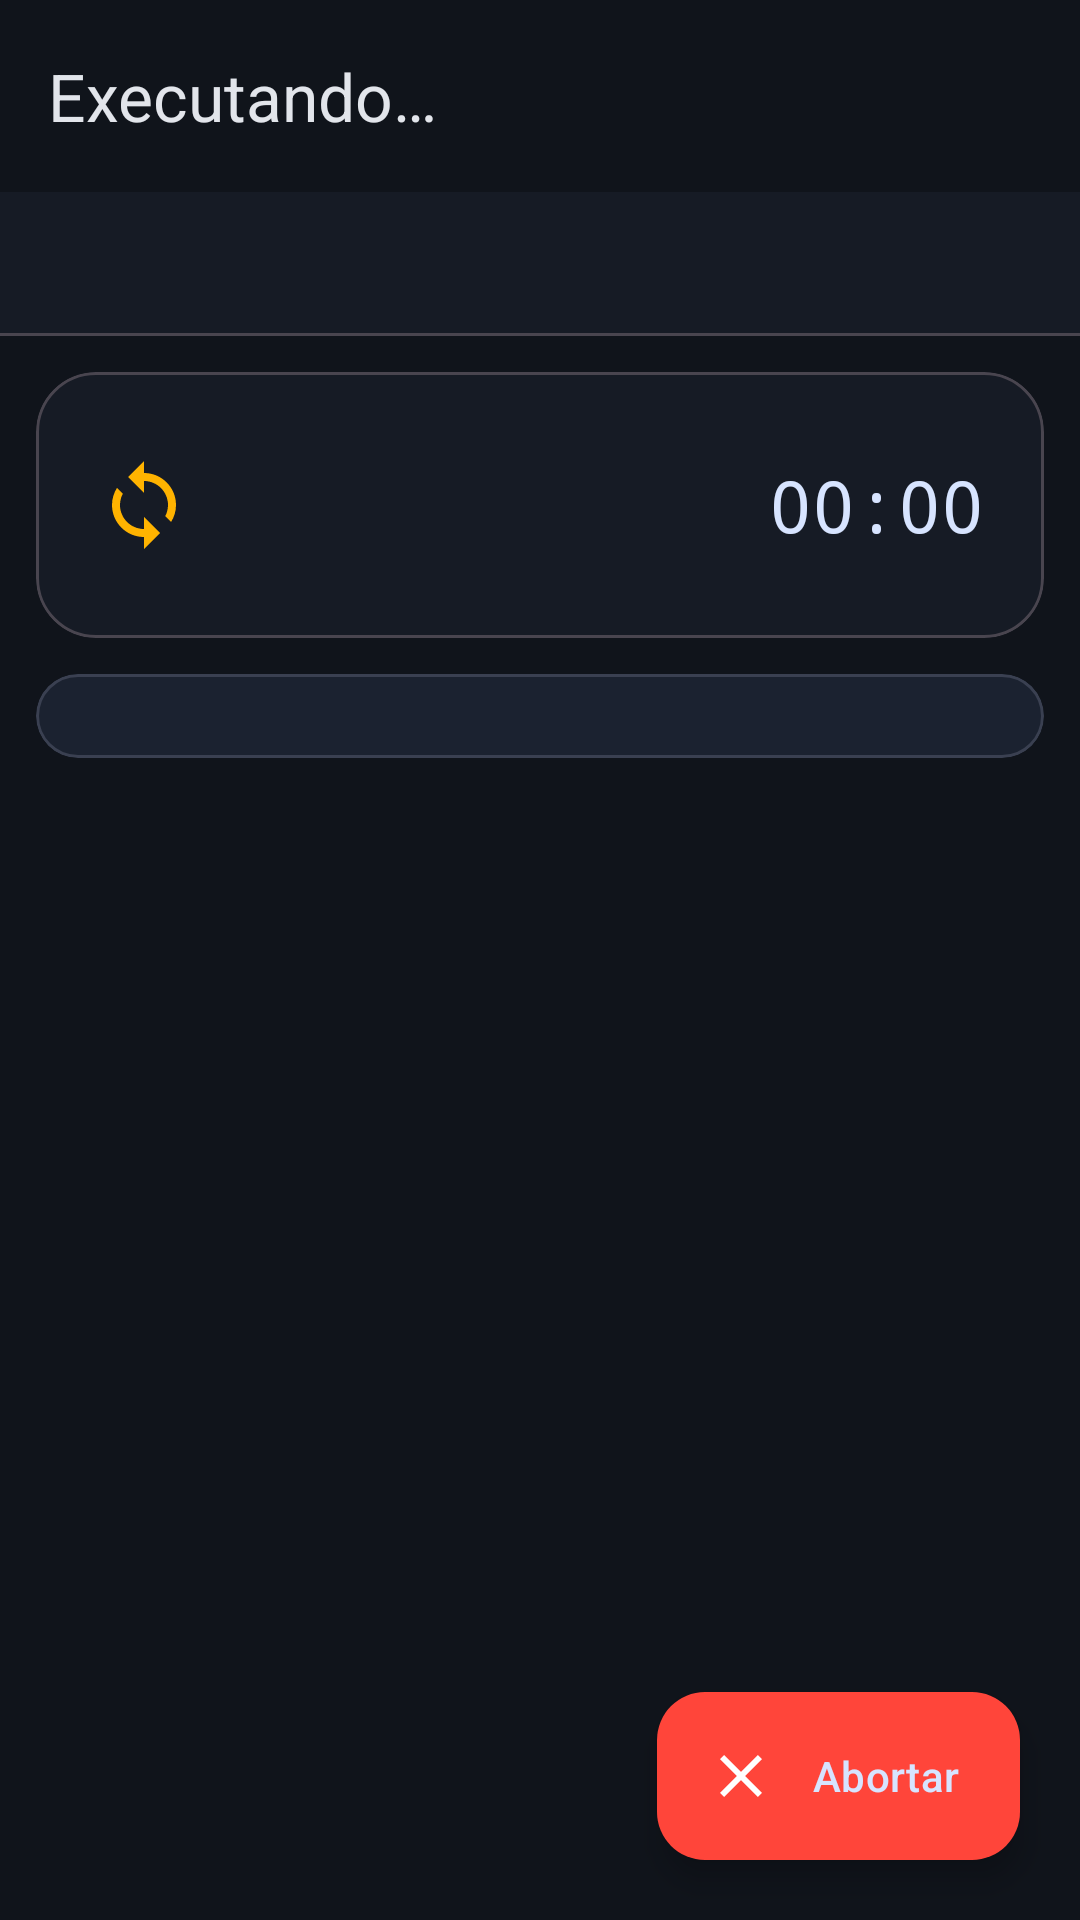

Locate icon controls on the screen. Image size 1080px x 1920px, boxes as (x1, y1, x2, y2).
running: (112, 461, 176, 549)
